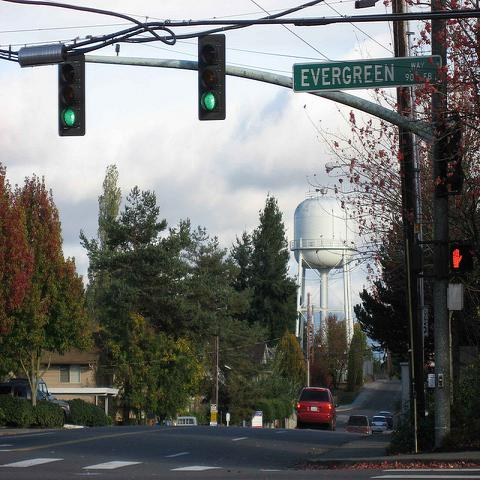car: (9, 378, 70, 420), (295, 386, 340, 430), (0, 383, 50, 401), (346, 416, 372, 436), (371, 416, 388, 433), (378, 412, 393, 430), (174, 417, 198, 427)
